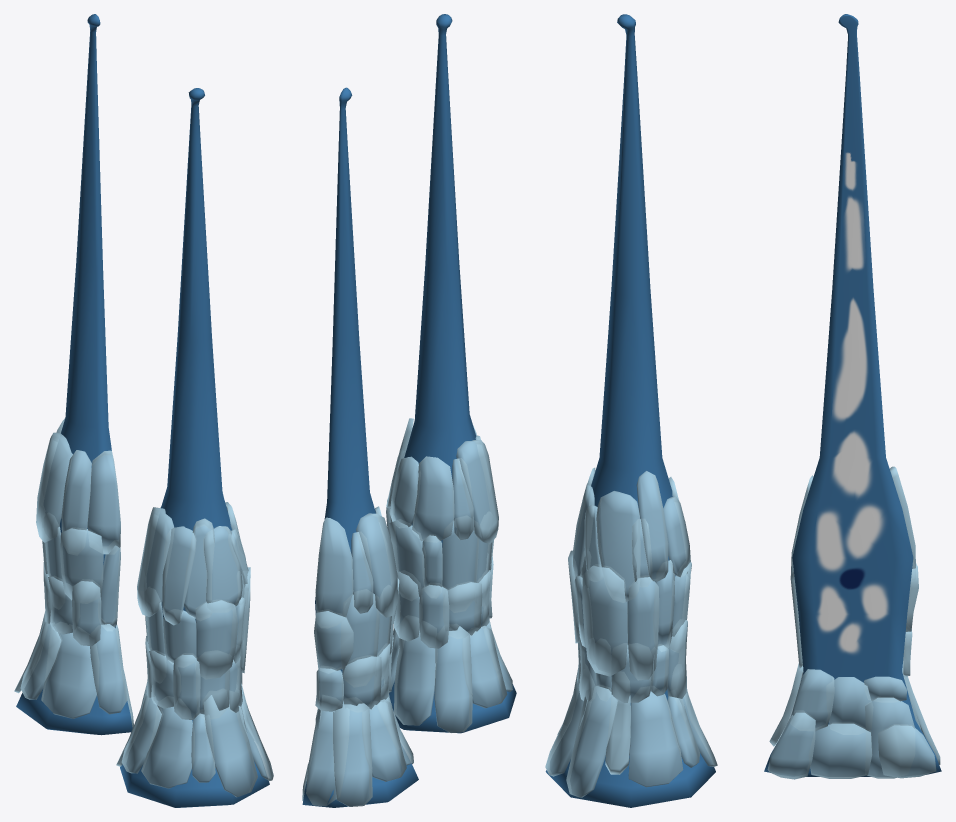
The model's file is Trikoma_2.fbx.
3 renders of one model, left to right at view 1: azimuth 30°, elevation 25°; view 2: azimuth 150°, elevation 25°; view 3: azimuth 270°, elevation 25°, orthographic. The views are drawn at different scales.
Parts seen in each view (by area): view 1: Trikoma_2; view 2: Trikoma_2; view 3: Trikoma_2.
Boxes of the visible parts, box(x1,y1,x2,y2) form: Trikoma_2: box(14, 14, 273, 807); Trikoma_2: box(302, 14, 516, 807); Trikoma_2: box(545, 14, 941, 807).
Size of the model in its own units: 213 by 1053 by 495.
